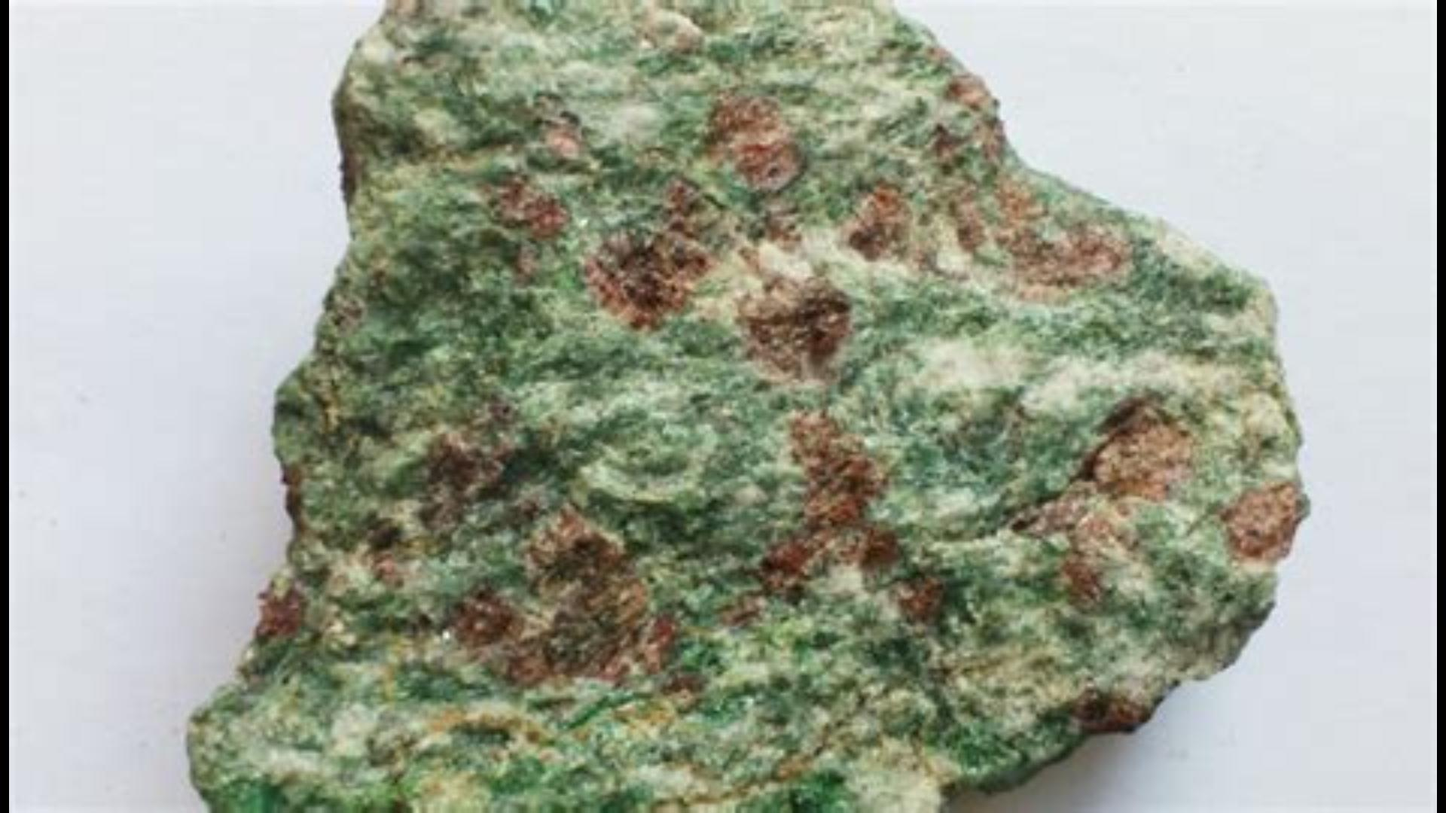rock: (193, 6, 1301, 807)
